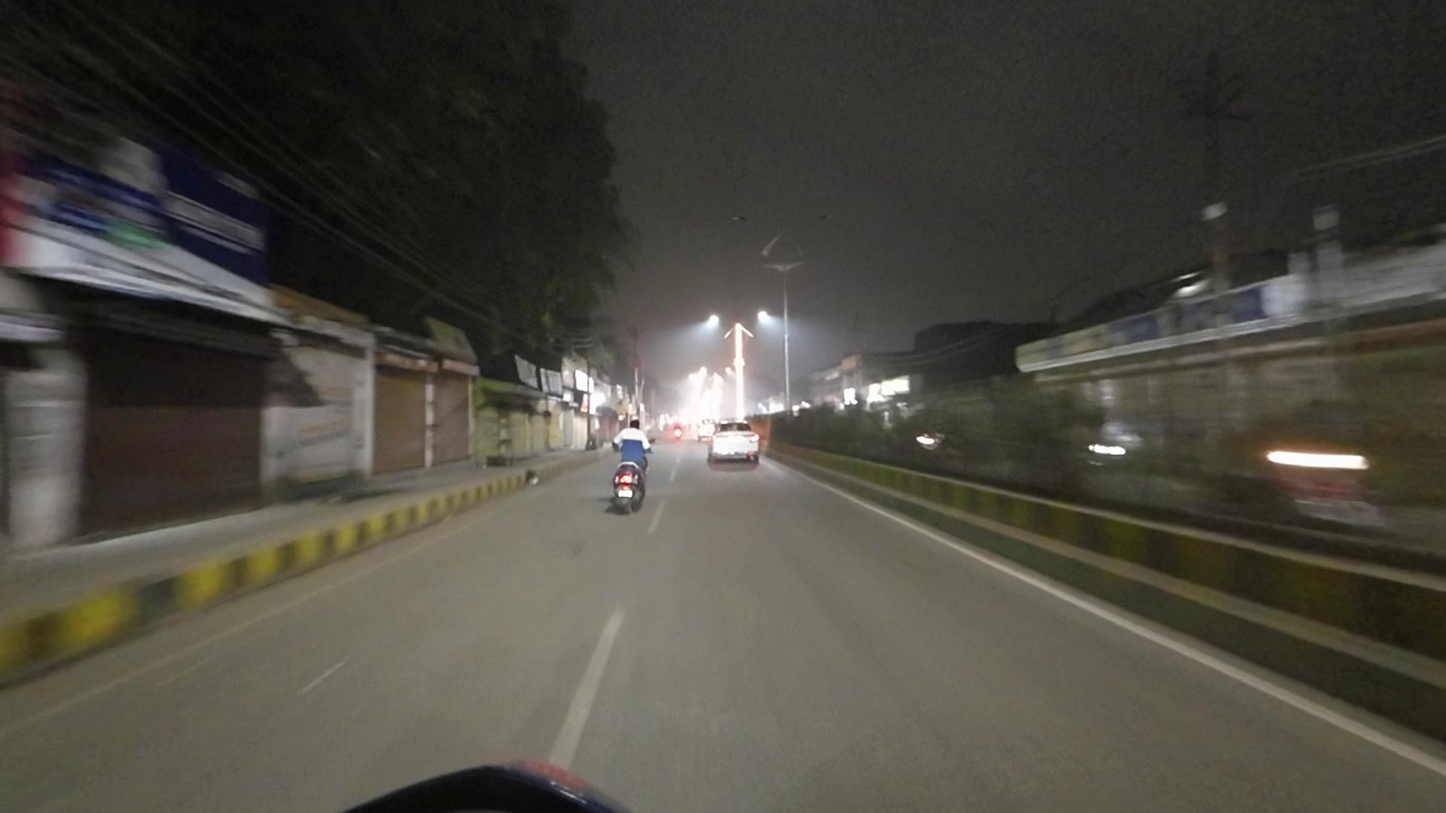streetlight: (729, 212, 775, 231), (788, 212, 835, 228)
